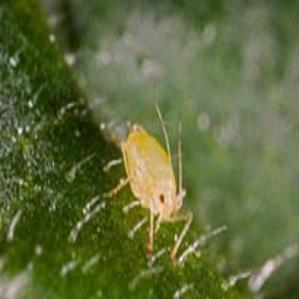Green peach aphid: (59, 96, 211, 258)
